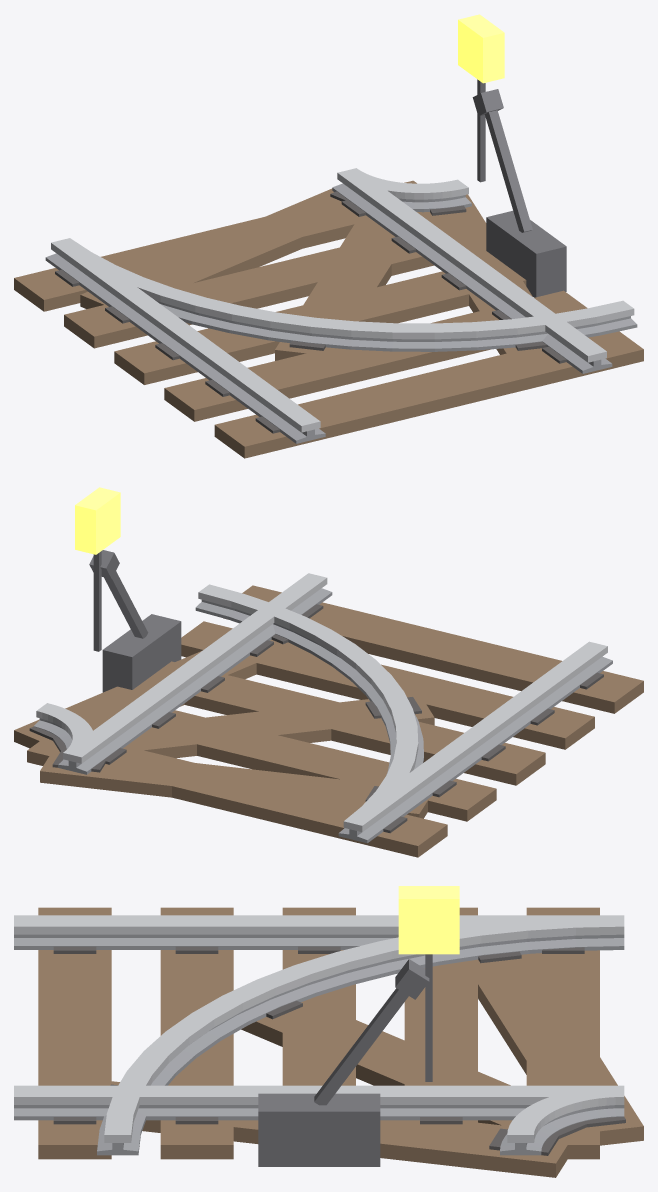
File: switch_on.gltf
The picture shows the model from 3 angles, top to bottom: view 1: azimuth 30°, elevation 25°; view 2: azimuth 150°, elevation 25°; view 3: azimuth 270°, elevation 25°; orthographic projection. The views are drawn at different scales.
Visible parts, largest first — view 1: switch_on; view 2: switch_on; view 3: switch_on.
Part boxes in pixels (bbox=[...]): switch_on: bbox=[14, 14, 643, 458]; switch_on: bbox=[14, 487, 643, 857]; switch_on: bbox=[14, 886, 643, 1177].
Size of the model in its own units: 0.9921 by 0.48 by 1.03.
